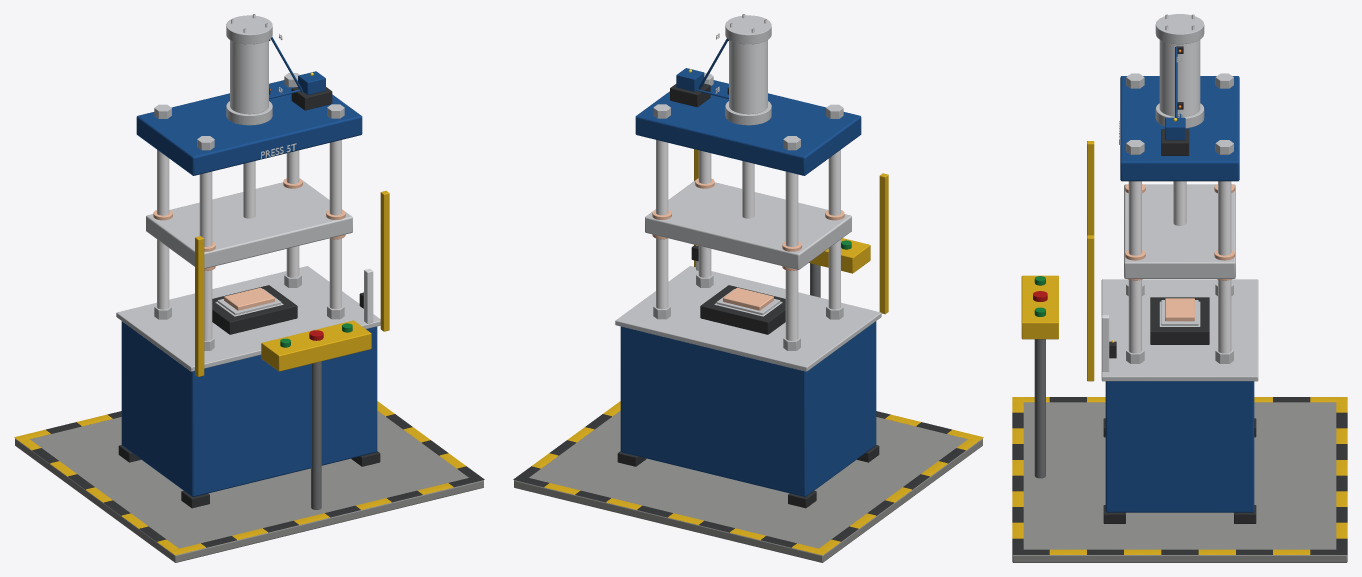
The model's file is machine_press.glb.
The picture shows the model from 3 angles, left to right: view 1: azimuth 30°, elevation 25°; view 2: azimuth 150°, elevation 25°; view 3: azimuth 270°, elevation 25°; orthographic projection. The views are drawn at different scales.
Visible parts, largest first — view 1: frame, ram_mesh, part_raw_mesh; view 2: frame, ram_mesh, part_raw_mesh; view 3: frame, ram_mesh, part_raw_mesh.
Part boxes in pixels (x1,y1,x2,y2): frame: (14, 14, 484, 562); ram_mesh: (146, 161, 352, 270); part_raw_mesh: (224, 287, 274, 310); frame: (513, 14, 983, 562); ram_mesh: (645, 161, 851, 270); part_raw_mesh: (723, 287, 773, 310); frame: (1012, 14, 1347, 562); ram_mesh: (1124, 181, 1235, 280); part_raw_mesh: (1165, 298, 1194, 321).
Bounding box in the file's own units: 2 × 2.75 × 1.8.
